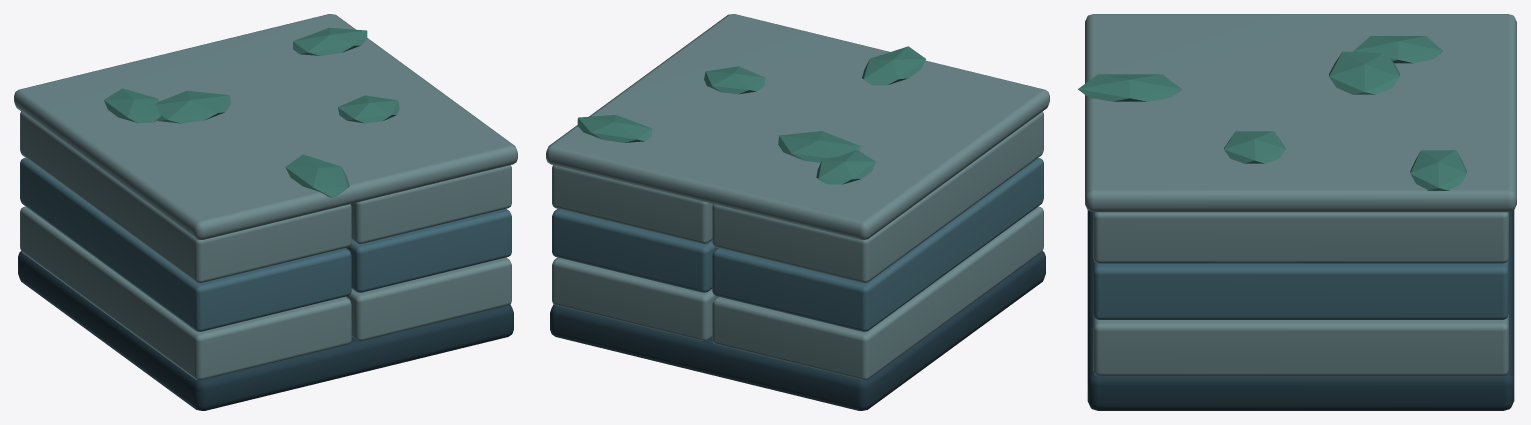
Rendered from wall_2.glb.
3 renders of one model, left to right at view 1: azimuth 30°, elevation 25°; view 2: azimuth 150°, elevation 25°; view 3: azimuth 270°, elevation 25°, orthographic. The views are drawn at different scales.
Parts seen in each view (by area): view 1: Coping.002, CarvedBlock.014, CarvedBlock.012, Foundation.002, CarvedBlock.016, CarvedBlock.015, CarvedBlock.013, CarvedBlock.017, Moss.014, Moss.013, Moss.011, Moss.012 (+1 smaller); view 2: Coping.002, CarvedBlock.014, CarvedBlock.012, Foundation.002, CarvedBlock.016, CarvedBlock.015, CarvedBlock.013, CarvedBlock.017, Moss.014, Moss.013, Moss.011, Moss.012 (+1 smaller); view 3: Coping.002, CarvedBlock.015, CarvedBlock.013, CarvedBlock.017, Foundation.002, Moss.014, Moss.013, Moss.011, Moss.012, Moss.010.
Boxes of the visible parts, left/top/right/bottom form: Coping.002: left=14, top=14, right=517, bottom=239; CarvedBlock.014: left=20, top=158, right=351, bottom=331; CarvedBlock.012: left=20, top=206, right=351, bottom=380; Foundation.002: left=18, top=251, right=513, bottom=410; CarvedBlock.016: left=20, top=111, right=351, bottom=283; CarvedBlock.015: left=346, top=209, right=511, bottom=292; CarvedBlock.013: left=346, top=257, right=511, bottom=340; CarvedBlock.017: left=350, top=165, right=511, bottom=243; Moss.014: left=155, top=90, right=230, bottom=123; Moss.013: left=285, top=154, right=349, bottom=197; Moss.011: left=293, top=27, right=367, bottom=55; Moss.012: left=104, top=88, right=161, bottom=123; Coping.002: left=546, top=14, right=1049, bottom=239; CarvedBlock.014: left=712, top=158, right=1043, bottom=331; CarvedBlock.012: left=712, top=206, right=1043, bottom=380; Foundation.002: left=550, top=251, right=1045, bottom=410; CarvedBlock.016: left=712, top=111, right=1043, bottom=283; CarvedBlock.015: left=552, top=209, right=717, bottom=292; CarvedBlock.013: left=552, top=257, right=717, bottom=340; CarvedBlock.017: left=552, top=165, right=713, bottom=243; Moss.014: left=778, top=131, right=860, bottom=162; Moss.013: left=862, top=46, right=925, bottom=85; Moss.011: left=577, top=115, right=652, bottom=142; Moss.012: left=816, top=150, right=875, bottom=184; Coping.002: left=1085, top=14, right=1516, bottom=212; CarvedBlock.015: left=1093, top=258, right=1508, bottom=319; CarvedBlock.013: left=1093, top=314, right=1508, bottom=376; CarvedBlock.017: left=1093, top=212, right=1508, bottom=263; Foundation.002: left=1087, top=210, right=1514, bottom=410; Moss.014: left=1329, top=51, right=1399, bottom=94; Moss.013: left=1078, top=74, right=1181, bottom=101; Moss.011: left=1410, top=150, right=1466, bottom=190; Moss.012: left=1354, top=36, right=1442, bottom=63; Moss.010: left=1224, top=131, right=1285, bottom=163.
Bounding box in the file's own units: 4.03 × 2.4 × 4.09.
